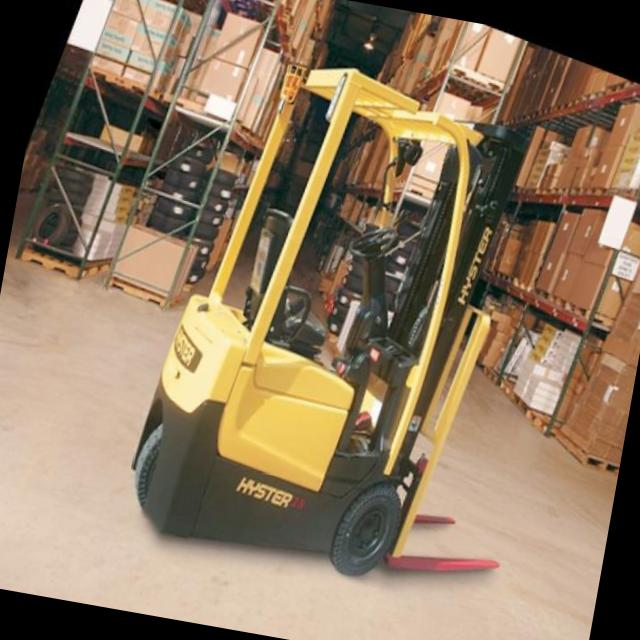forklift: (70, 3, 583, 640)
